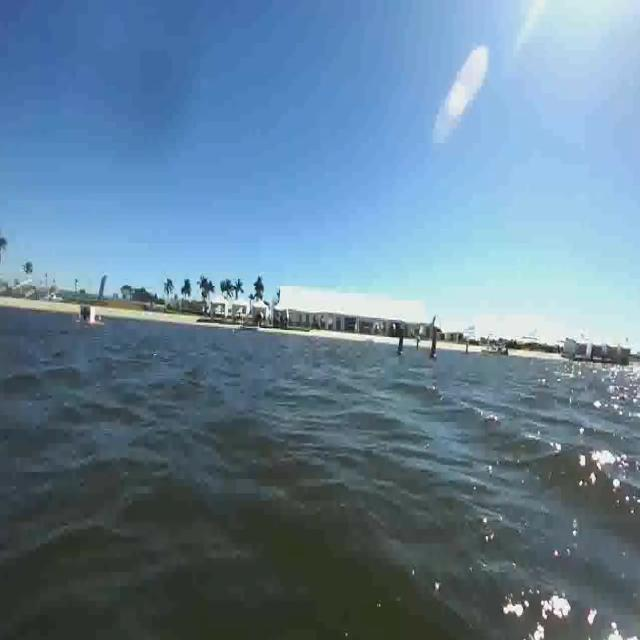green-column-buoy: (396, 327, 404, 356)
red-column-buoy: (428, 326, 438, 360)
